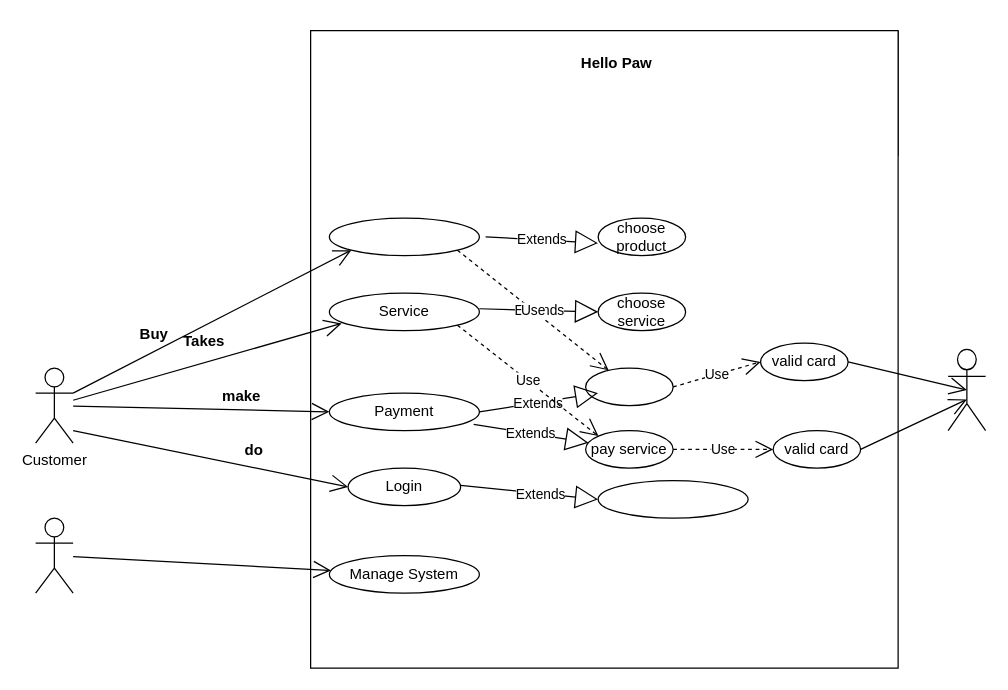
The diagram is 1008 pixels wide and 690 high, and some of its shapes have lost their labels. The centre of each missing label's shape, as x and y in pixels:
"Admin" belongs at point (53, 555).
"Bank" belongs at point (966, 389).
"pay product" belongs at point (628, 386).
"Product" belongs at point (403, 236).
"registration" belongs at point (672, 498).
